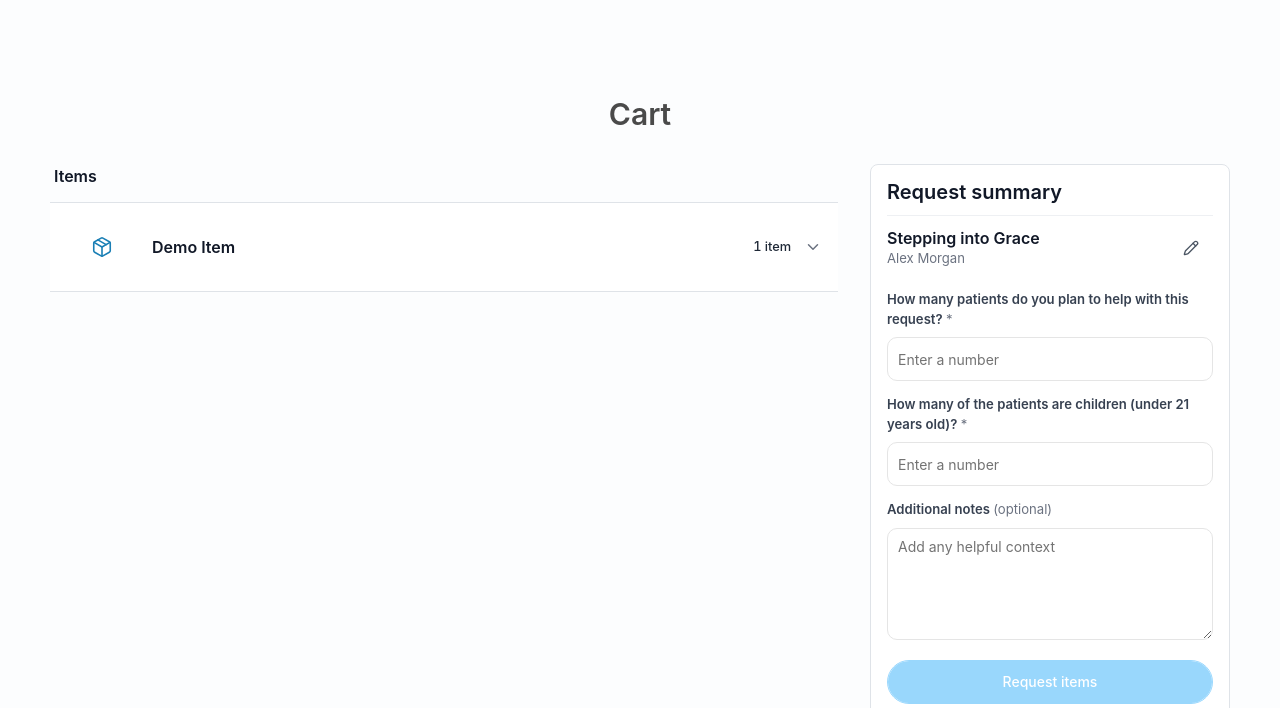
Test: Cart request context › edits Partner and Clinician in place without losing cart items
The image size is (1280, 708).
What coordinates should you click on to do the following:
click the button named "Change partner clinic"
I would click on:
 (1191, 248)
Its box is [1169,226,1213,270].
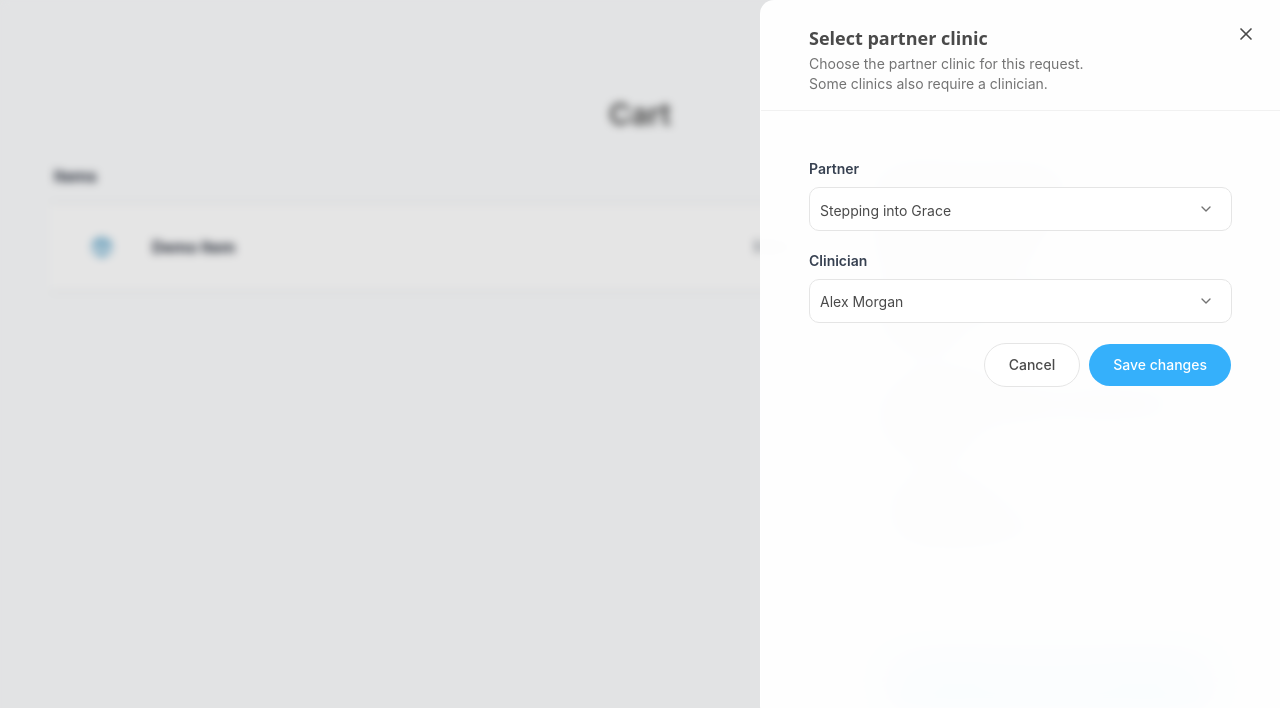
Check: the heading "Select partner clinic" is shown, box [809,26,988,50]
Check: the dropdown named "PartnerDropdown" holds "Stepping into Grace"
Check: the dropdown named "ClinicianDropdown" holds "Alex Morgan", box [810,279,1184,323]
What coordinates should you click on to do the following:
click the dropdown named "PartnerDropdown"
I would click on:
 (997, 210)
Its box is [810,188,1184,232].
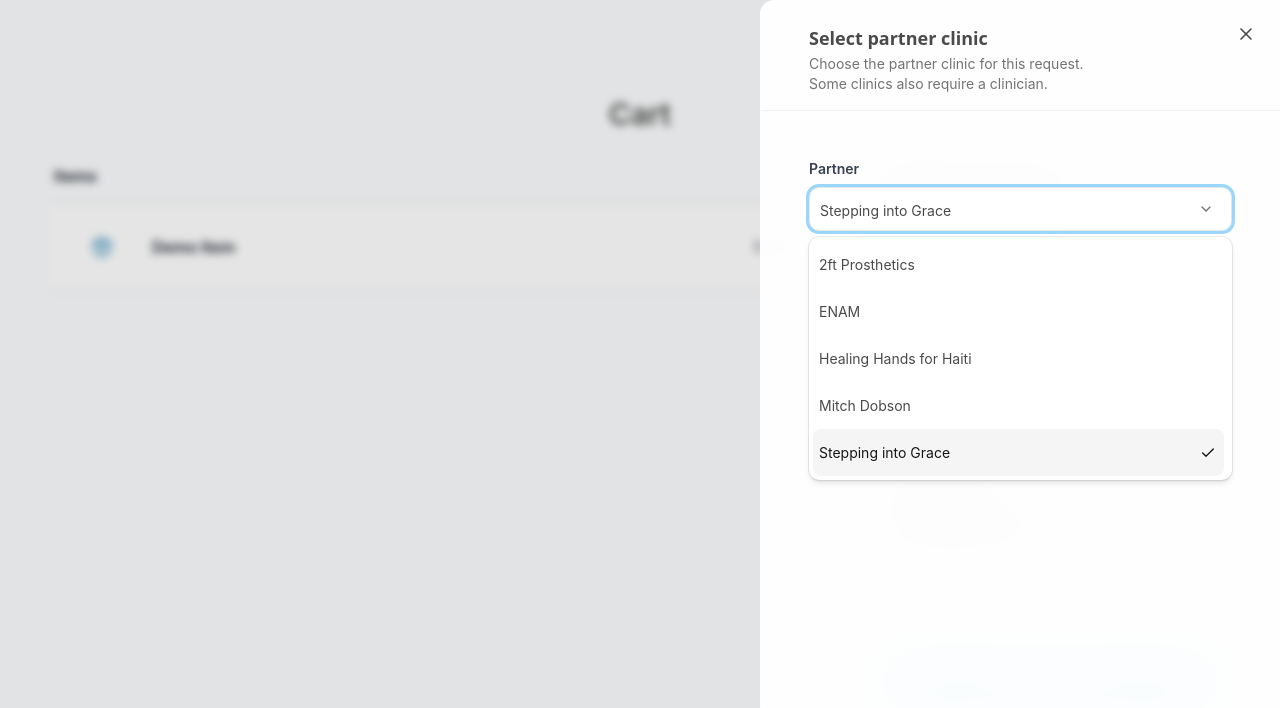
What coordinates should you click on to do the following:
click the option "2ft Prosthetics"
I would click on:
 (867, 264)
Its box is [819,256,915,272].
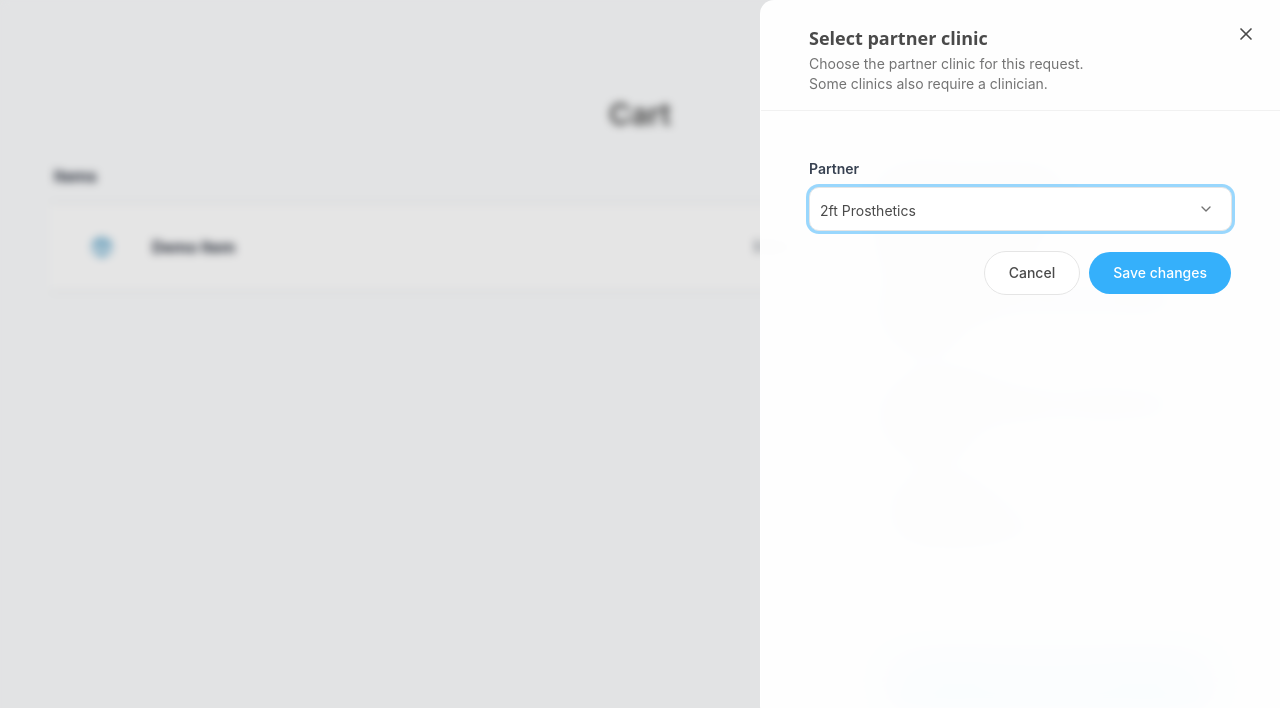
Check: the dropdown labelled "ClinicianDropdown" is gone
What coordinates should you click on to do the following:
click the button with aria-label "Save partner clinic"
I would click on:
 (1160, 273)
Its box is [1088,251,1232,295].
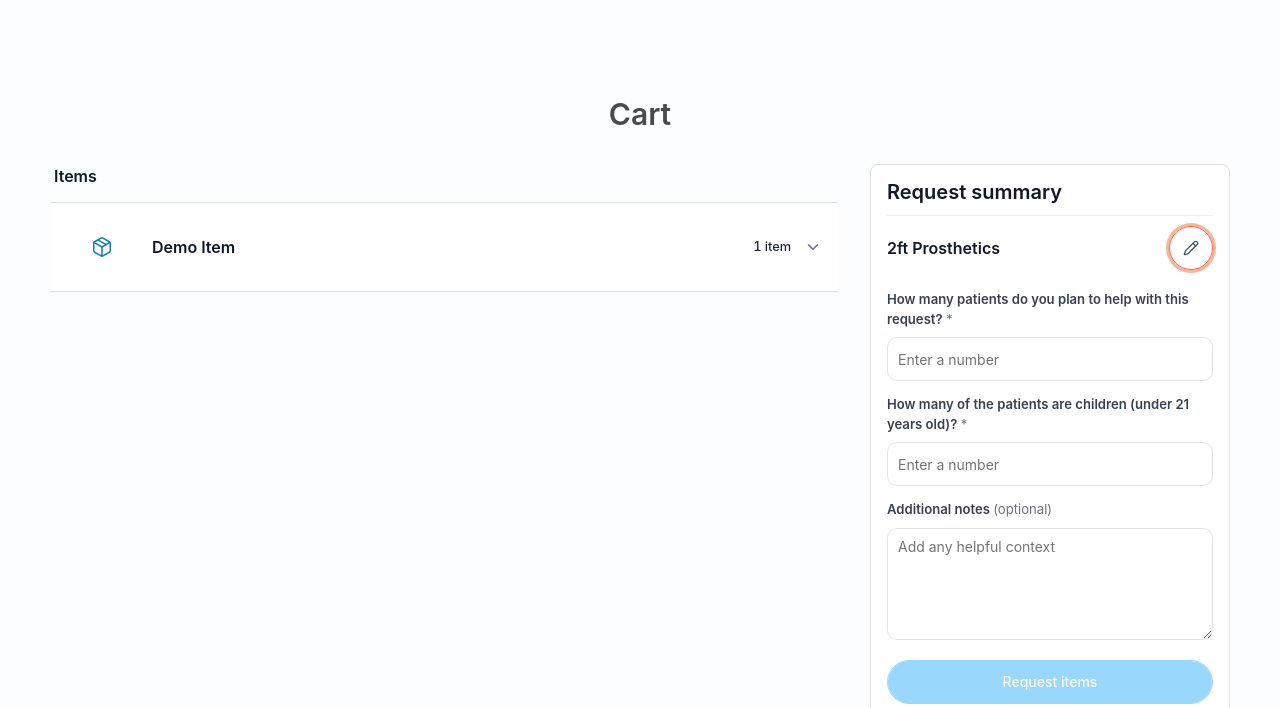
Check: the heading "Select partner clinic" is gone
Check: the heading "2ft Prosthetics" is shown, box [887,238,1000,258]
Check: the text "Alex Morgan" is gone
